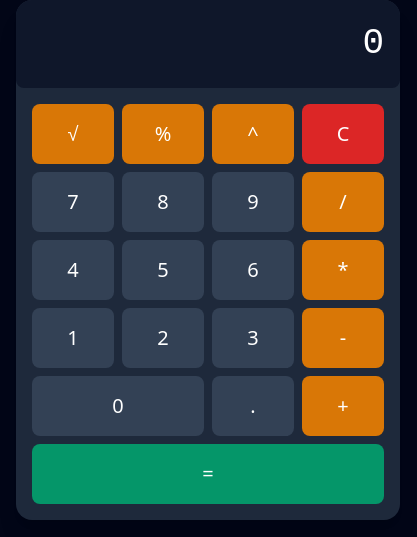
Test: Calculator › shows the backend error message for division by zero
Click the button "5". click: (163, 270)
box: [122,240,204,300]
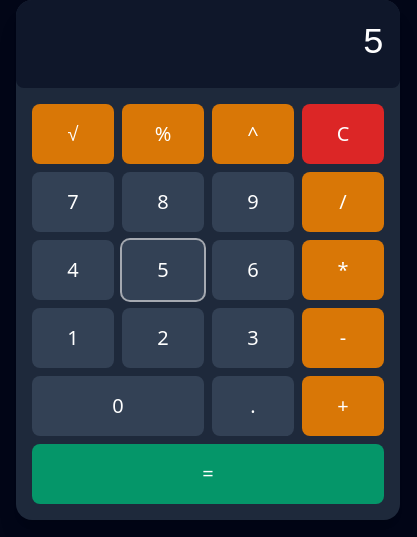
Click the button "/". click: (343, 202)
box: [302,172,384,232]
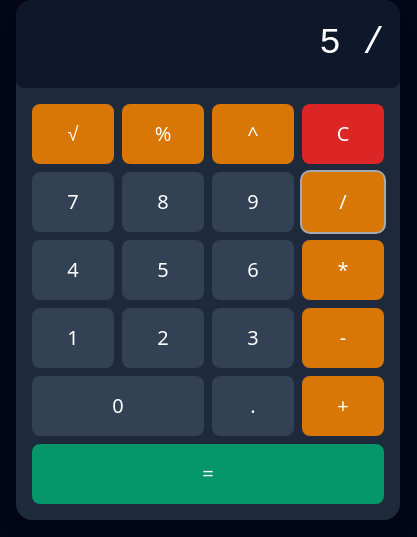
Click the button "0". click: (118, 406)
box: [32,376,204,436]
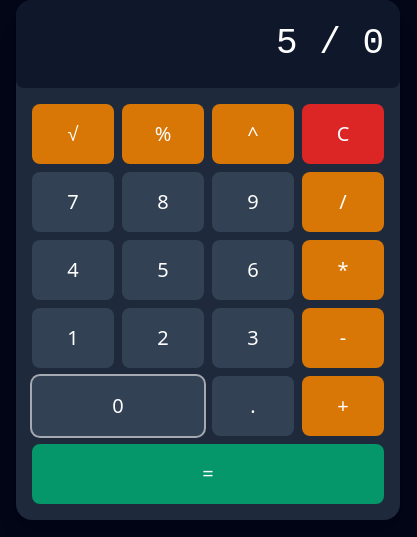
Click the button "=". click: (208, 474)
box: [32,444,384,504]
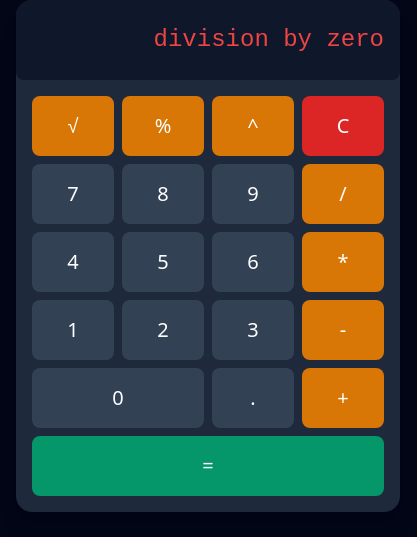
Result: the message reads "division by zero" at [154,26,384,53]
